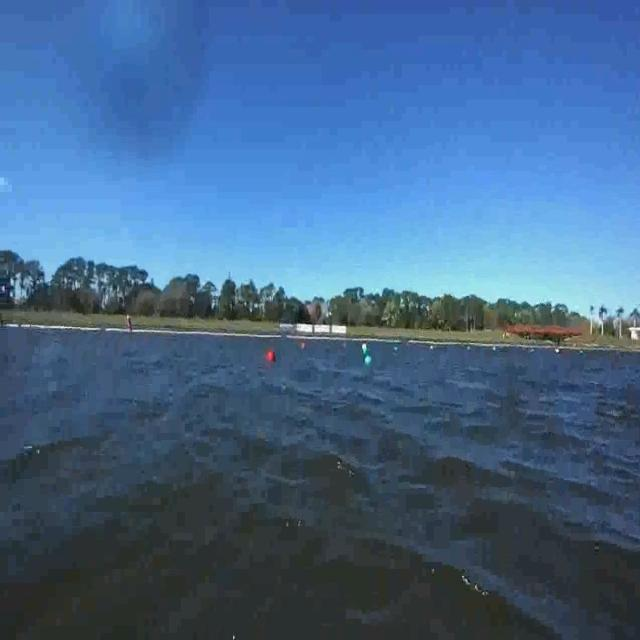green-buoy: (362, 350, 374, 371)
red-buoy: (268, 349, 276, 363)
